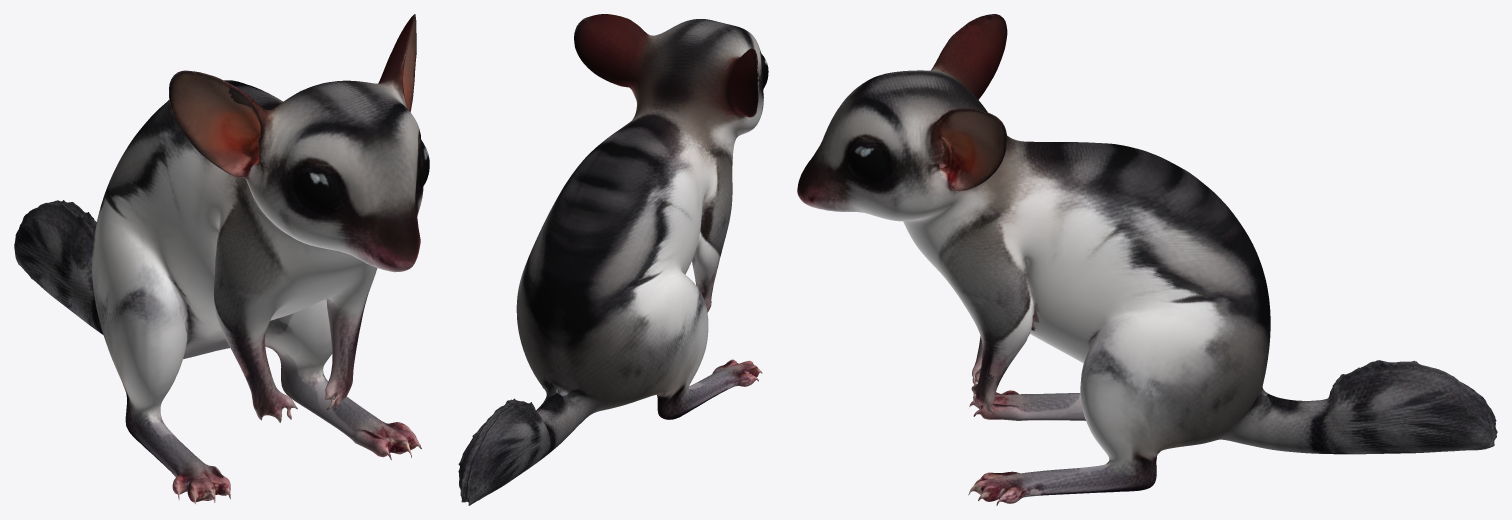
The model's file is vet_animal_sugar_glider.glb.
3 views of the same model, side by side, from view 1: azimuth 30°, elevation 25°; view 2: azimuth 150°, elevation 25°; view 3: azimuth 270°, elevation 25° (orthographic). The views are drawn at different scales.
Parts seen in each view (by area): view 1: model; view 2: model; view 3: model.
Part boxes in pixels (x1,y1,x2,y2): model: (14, 14, 429, 504); model: (458, 14, 768, 505); model: (797, 14, 1497, 505).
Size of the model in its own units: 0.6959 by 1.16 by 1.89.
1 material, 1 textured.
